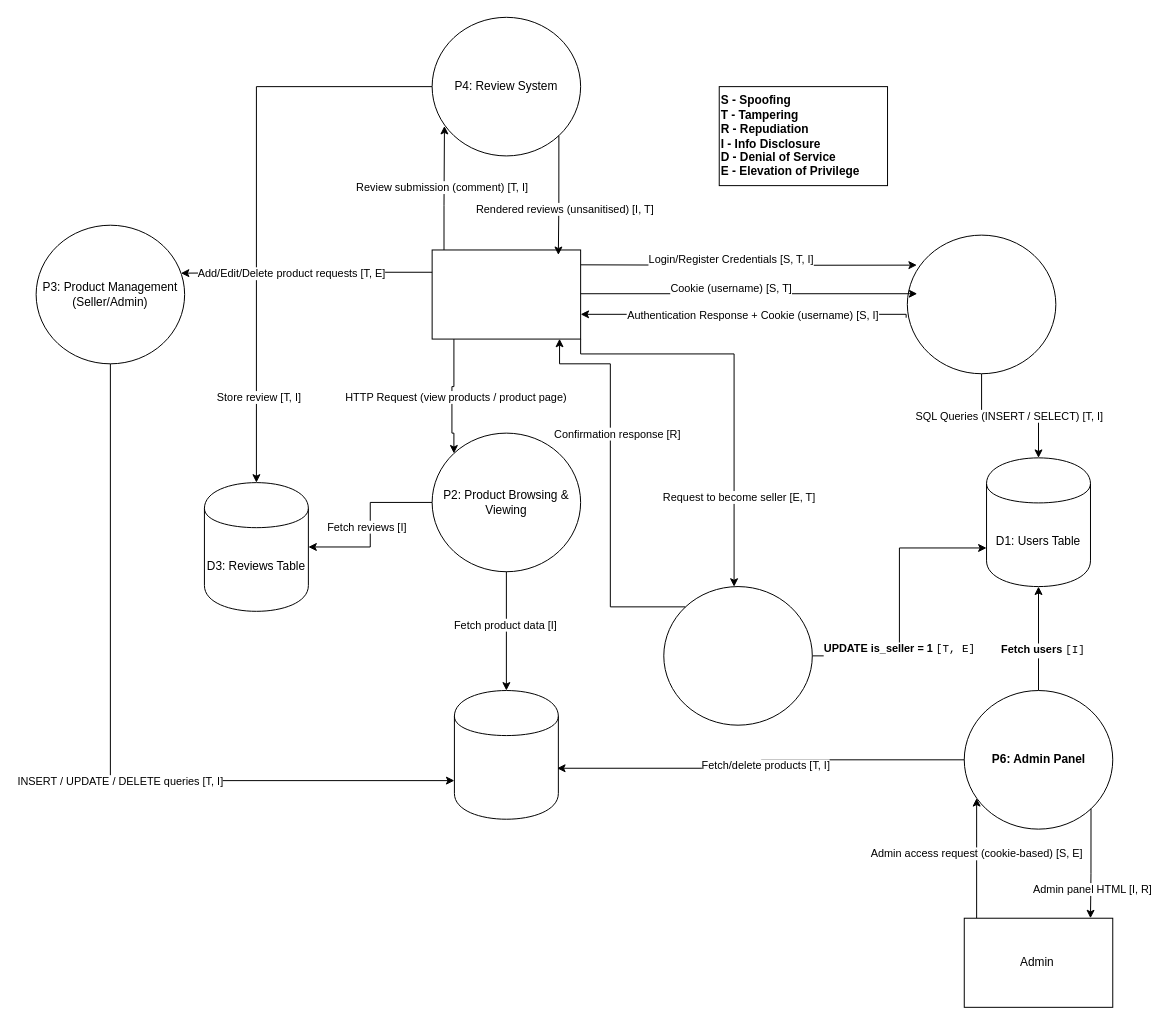
This 1168x1025 diagram has some shape labels left out. The shapes that lost their labels are listed below. From the top down, each one's centre as x and y in pixels, then its label:
At (506,294): "User (browser)".
At (981,304): "P1: Authentication & Session Handling".
At (737,655): "P5: Role Management".
At (505,754): "D2: Products Table".
